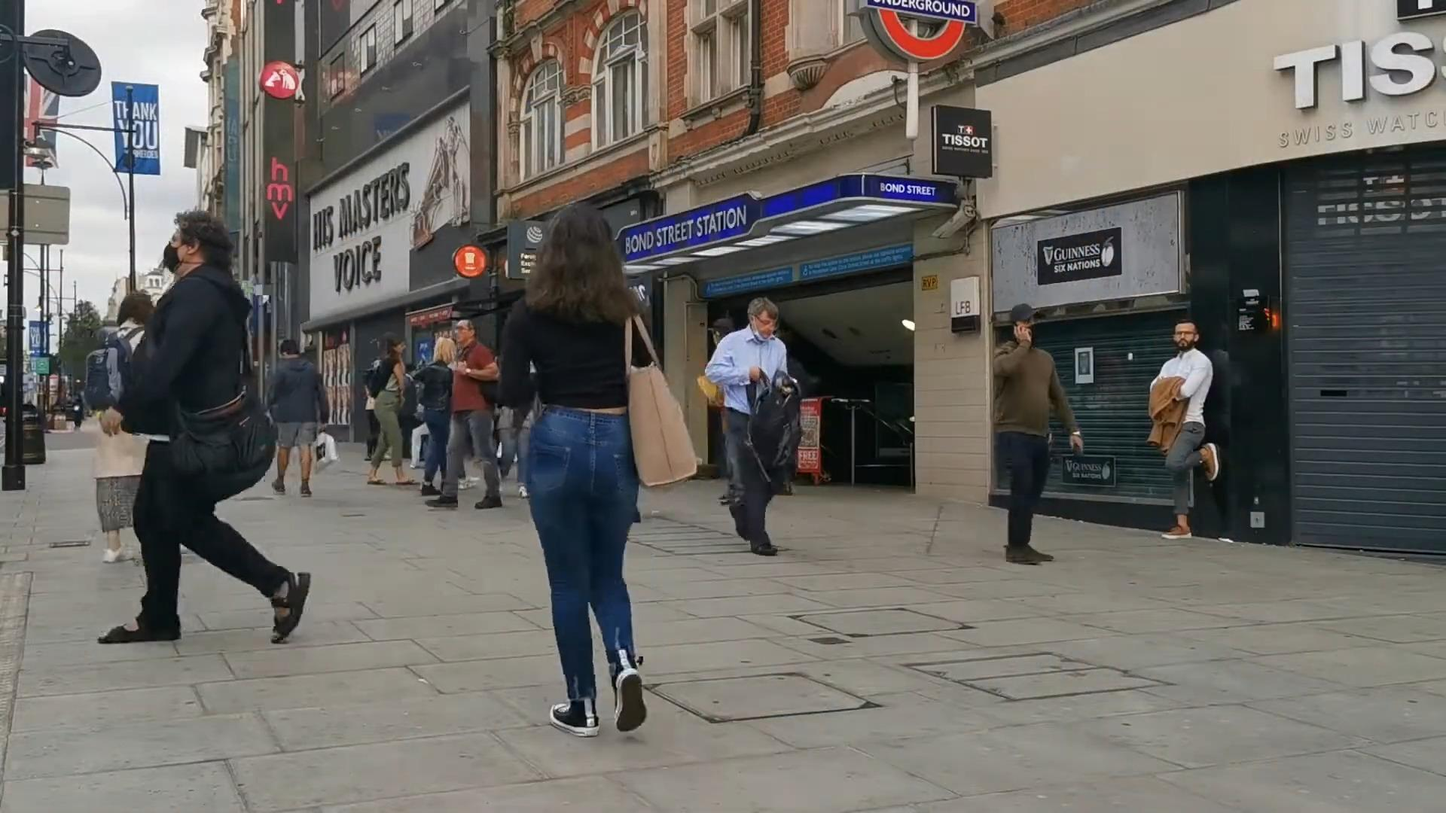no-helmet: (532, 202, 626, 294), (163, 210, 235, 277), (747, 296, 779, 342), (116, 289, 155, 326), (1010, 303, 1041, 341), (1172, 318, 1200, 352), (434, 337, 457, 366), (455, 319, 477, 344), (388, 334, 406, 355), (280, 340, 300, 358)
